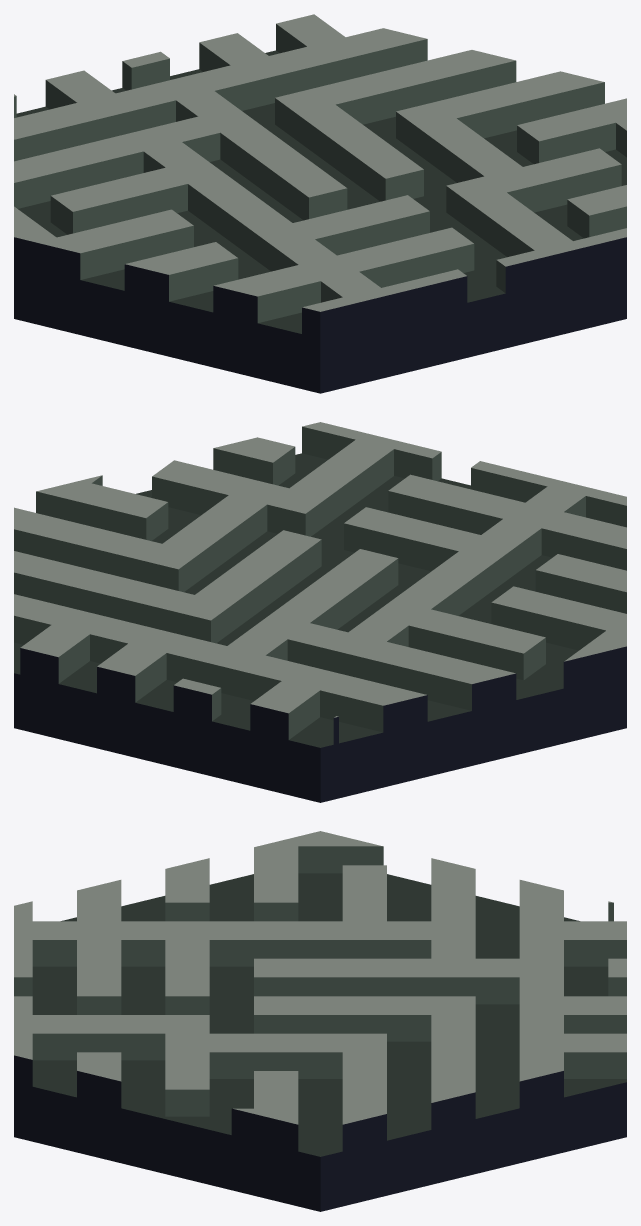
File: SM_Secret_04.fbx
3 views of the same model, one above another, from view 1: azimuth 30°, elevation 25°; view 2: azimuth 150°, elevation 25°; view 3: azimuth 270°, elevation 25° (orthographic).
Visible parts, largest first — view 1: SM_Secret_04; view 2: SM_Secret_04; view 3: SM_Secret_04.
Part boxes in pixels (<box>): SM_Secret_04: <box>14,14,626,393</box>; SM_Secret_04: <box>14,422,626,802</box>; SM_Secret_04: <box>14,831,626,1211</box>.
Size of the model in its own units: 47.94 by 6.11 by 41.52.
Materials: 1 (1 with a texture image).
